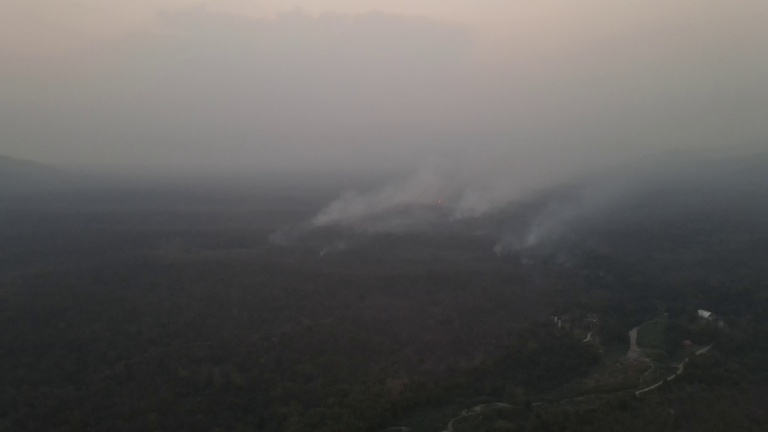fire: (435, 196, 445, 206)
smoke: (300, 123, 586, 242)
